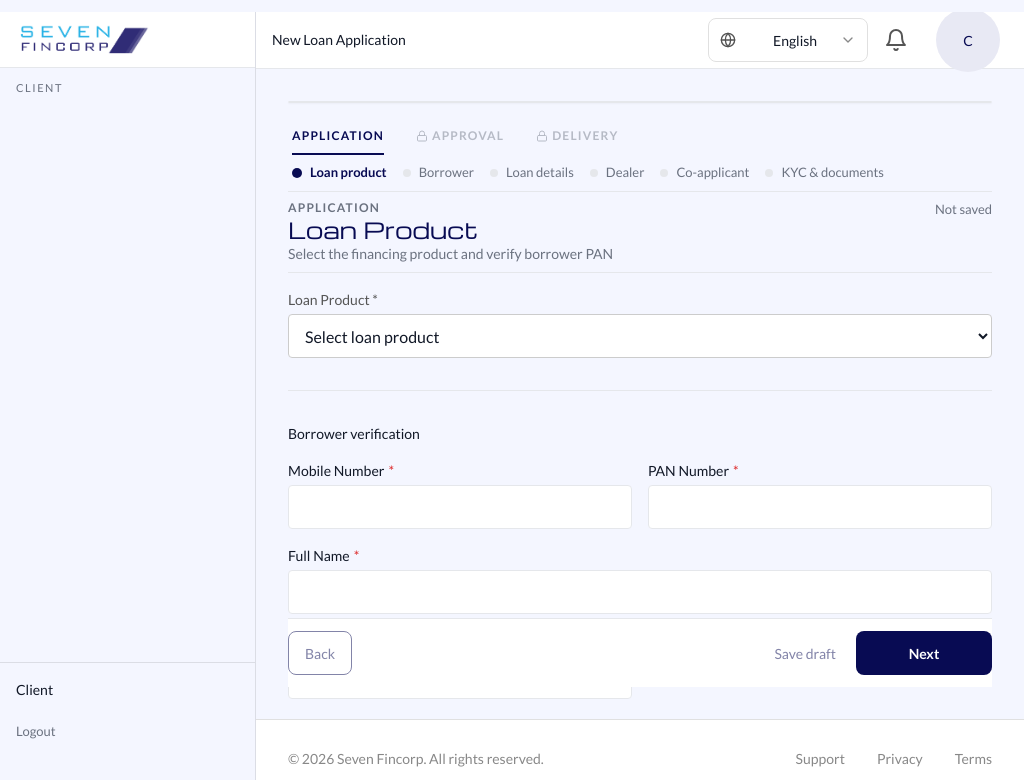
Test: B2CEvApplicationWizard submit gating › advances when new to credit also fails the score floor
The width and height of the screenshot is (1024, 780).
Select "EV Loan" in the dropdown with test id "b2c-loan-product-select": (640, 336) [288,314,992,358]
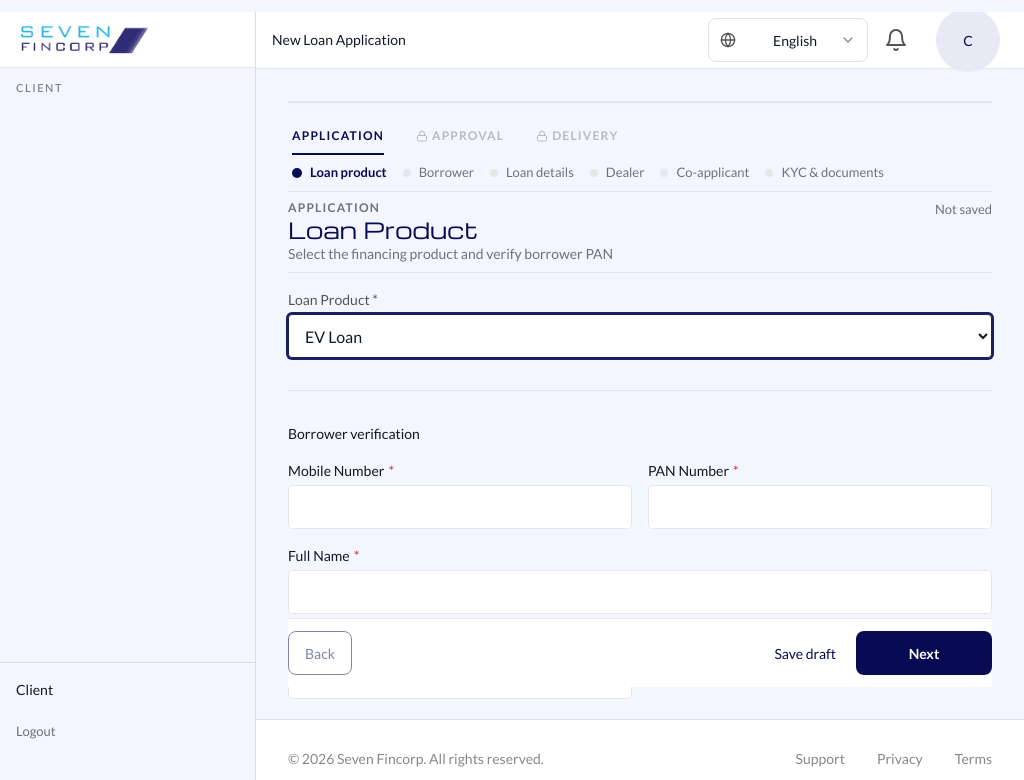
In the field with test id "b2c-field-_meta-panLookup-mobileNumber": (460, 507) [288,485,632,529], type "9687599179"
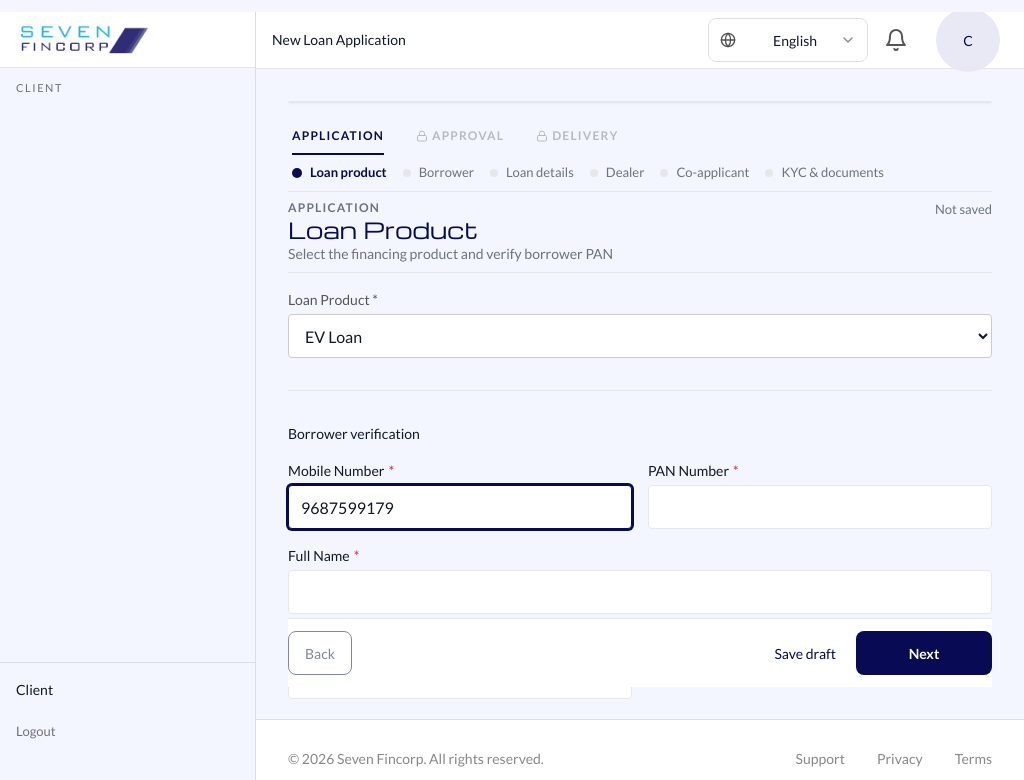
In the field with test id "b2c-field-_meta-panLookup-panNumber": (820, 507) [648,485,992,529], type "BAIPG3083L"
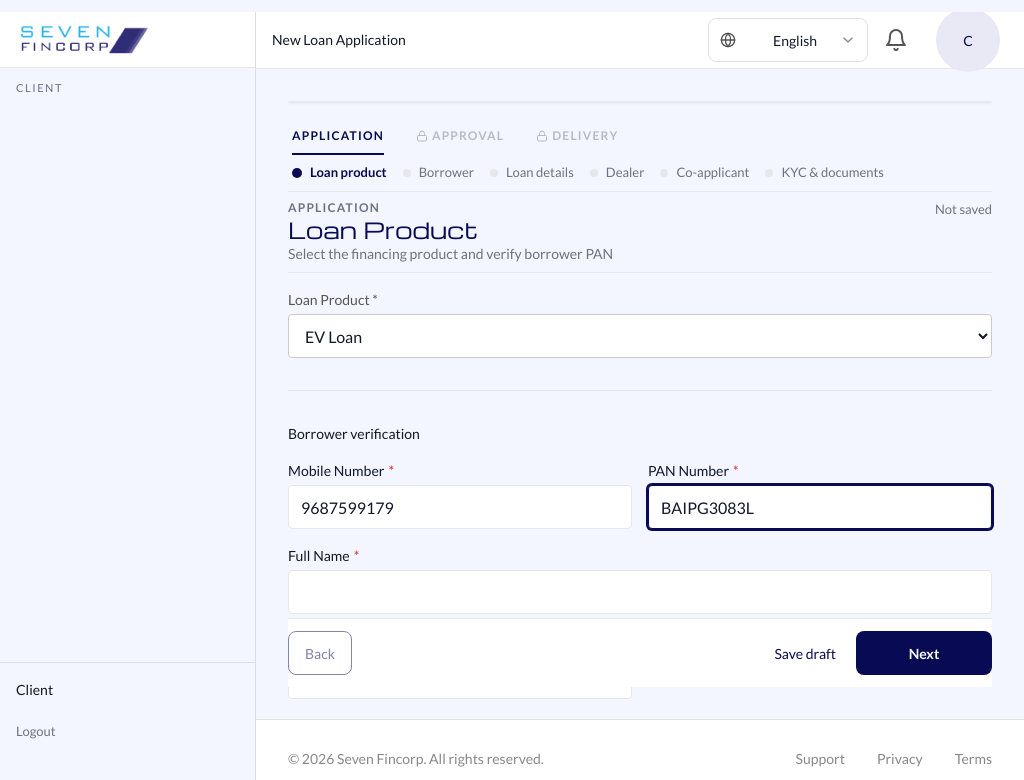
In the field with test id "b2c-field-_meta-panLookup-fullName": (640, 592) [288,570,992,614], type "RAHUL YADAV"
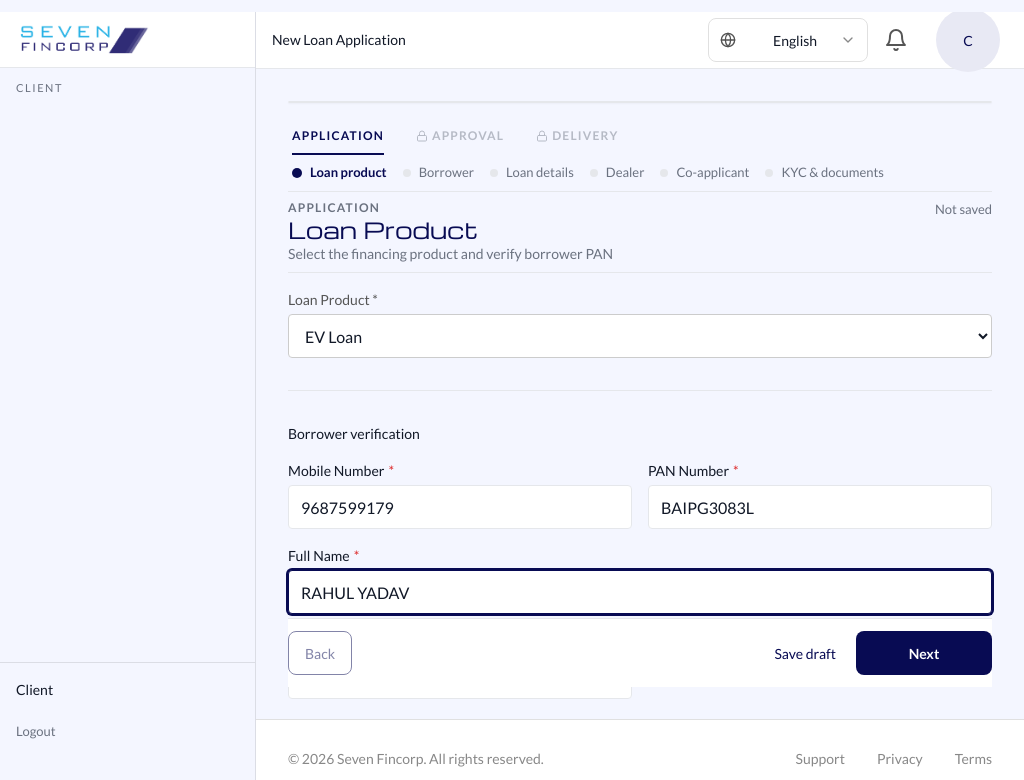
Click the button with test id "b2c-wizard-next": (924, 653) [856,631,992,675]
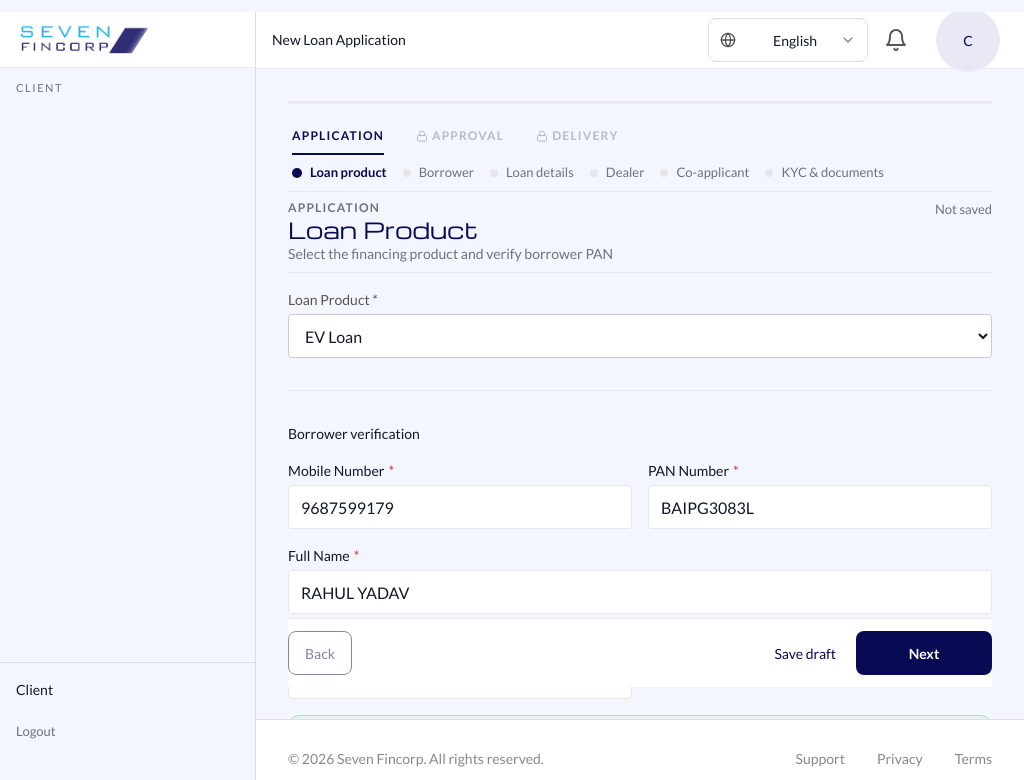
Click the button with test id "b2c-wizard-next": (924, 653) [856,631,992,675]
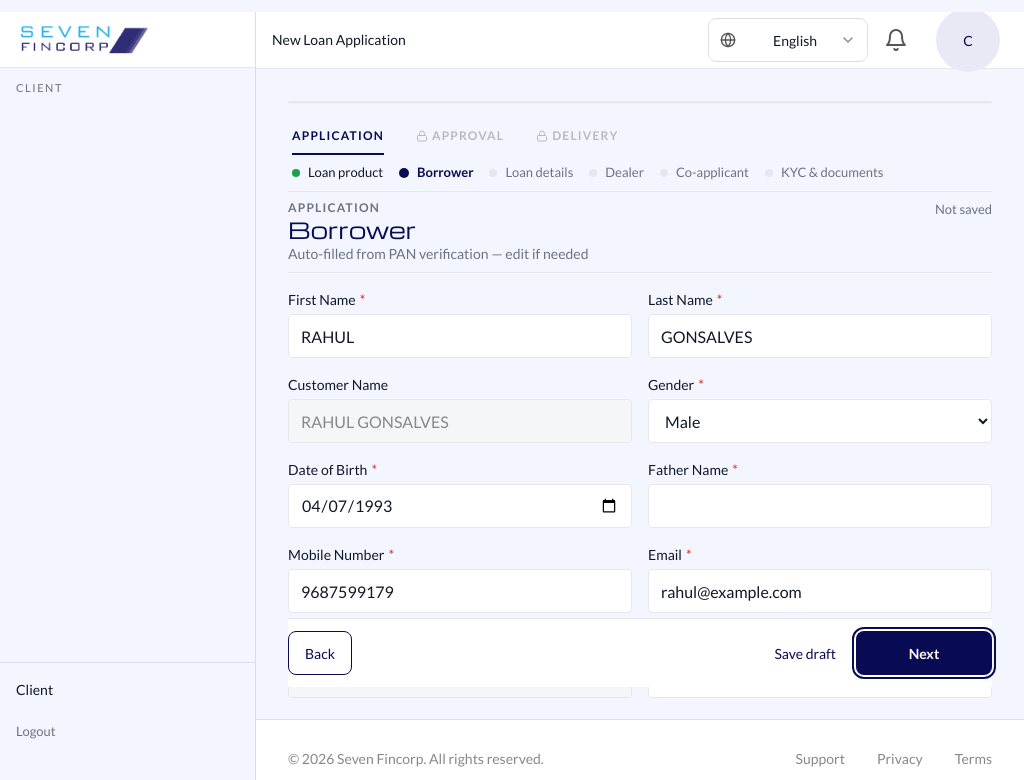
Expected: the field with test id "b2c-field-borrower-firstName" is shown, [288,314,632,358]
